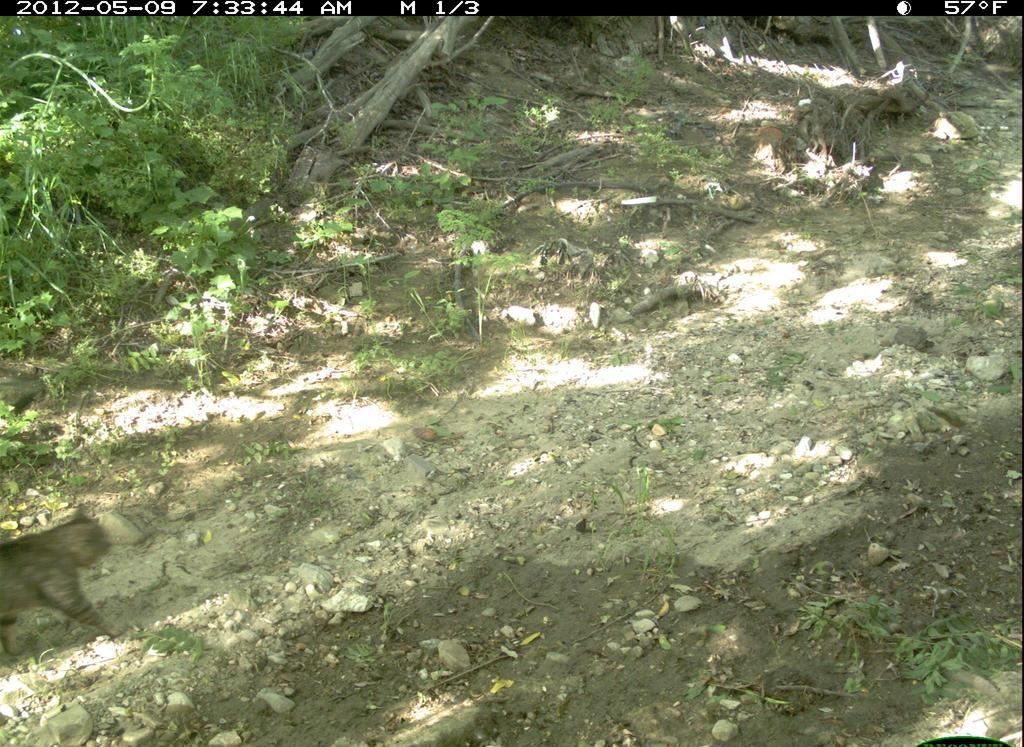cat: (2, 497, 136, 679)
